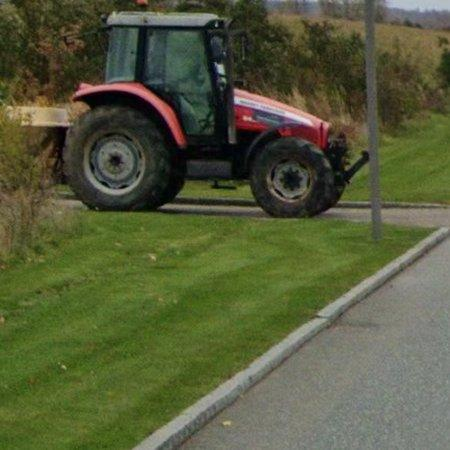tractors: (62, 14, 370, 217)
